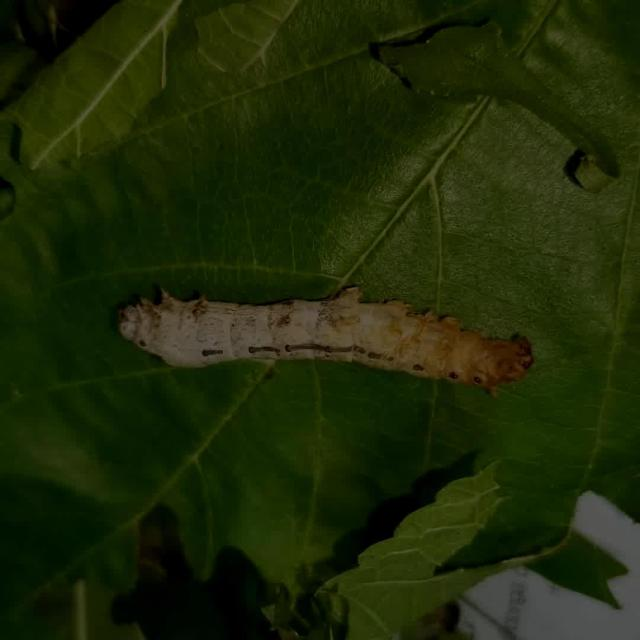Grasserie: (92, 216, 550, 434)
